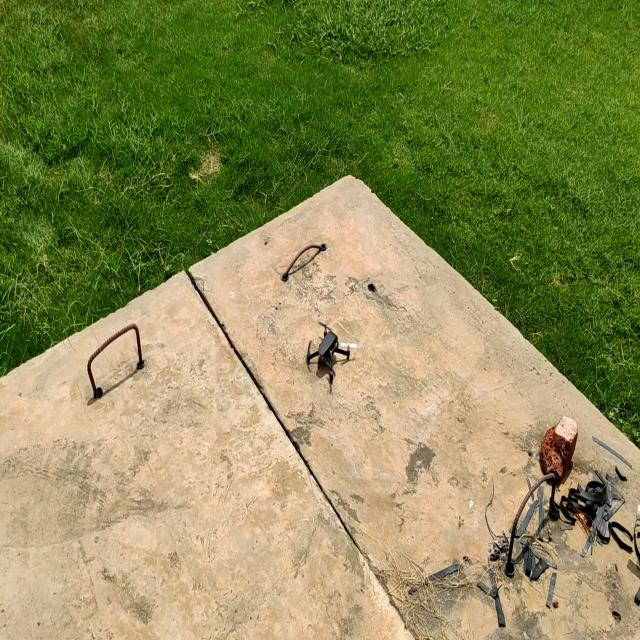drone: (294, 302, 366, 396)
